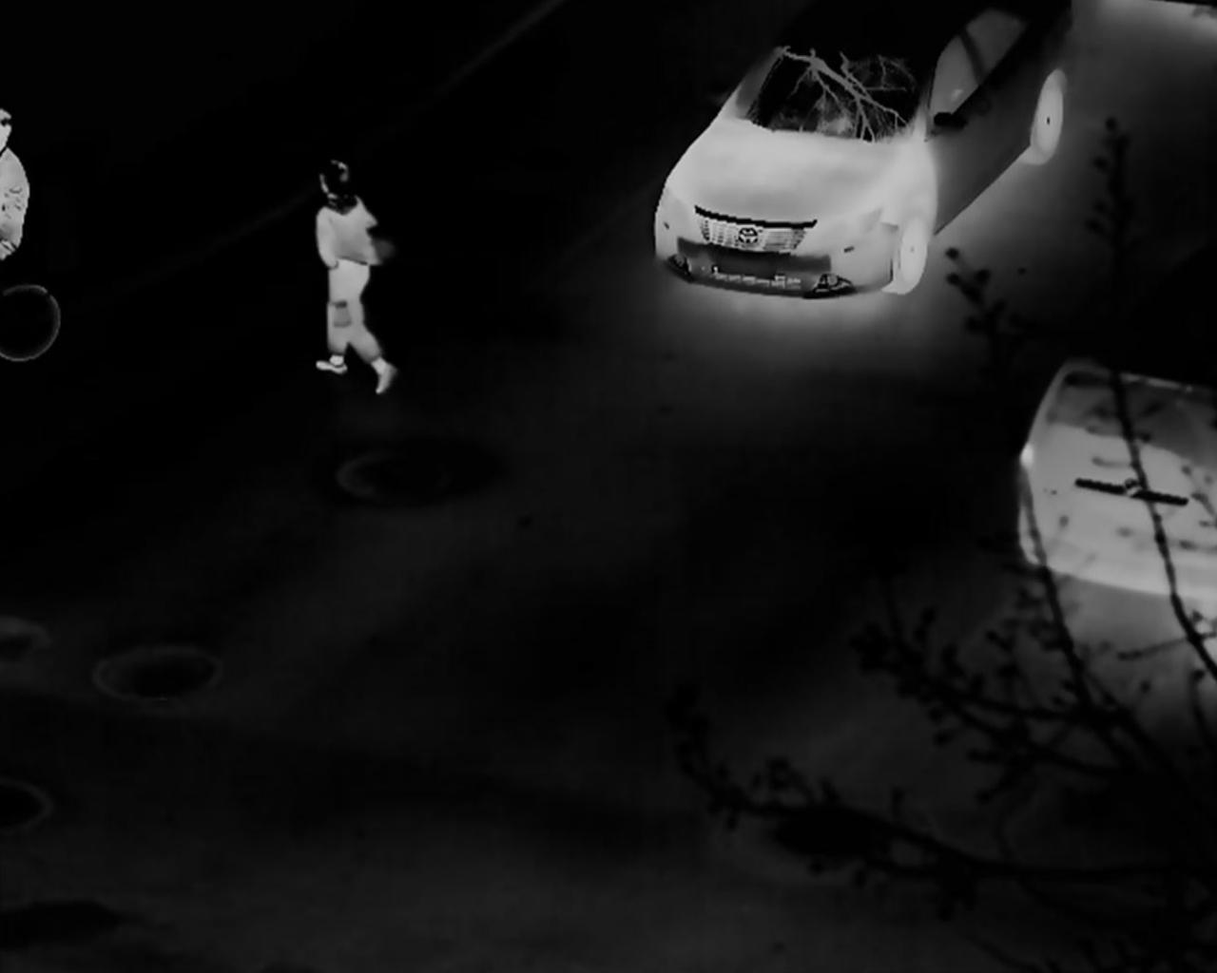person: (316, 160, 399, 395)
